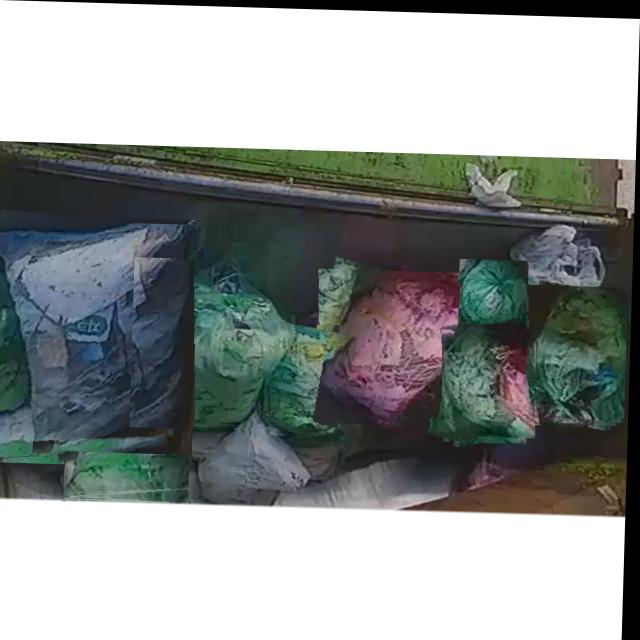general_trashbag: (134, 259, 286, 428), (528, 283, 628, 422), (446, 329, 536, 434), (269, 323, 344, 434), (68, 453, 191, 496), (461, 257, 528, 334)
other_trashbag: (0, 223, 204, 456), (319, 269, 480, 418)
